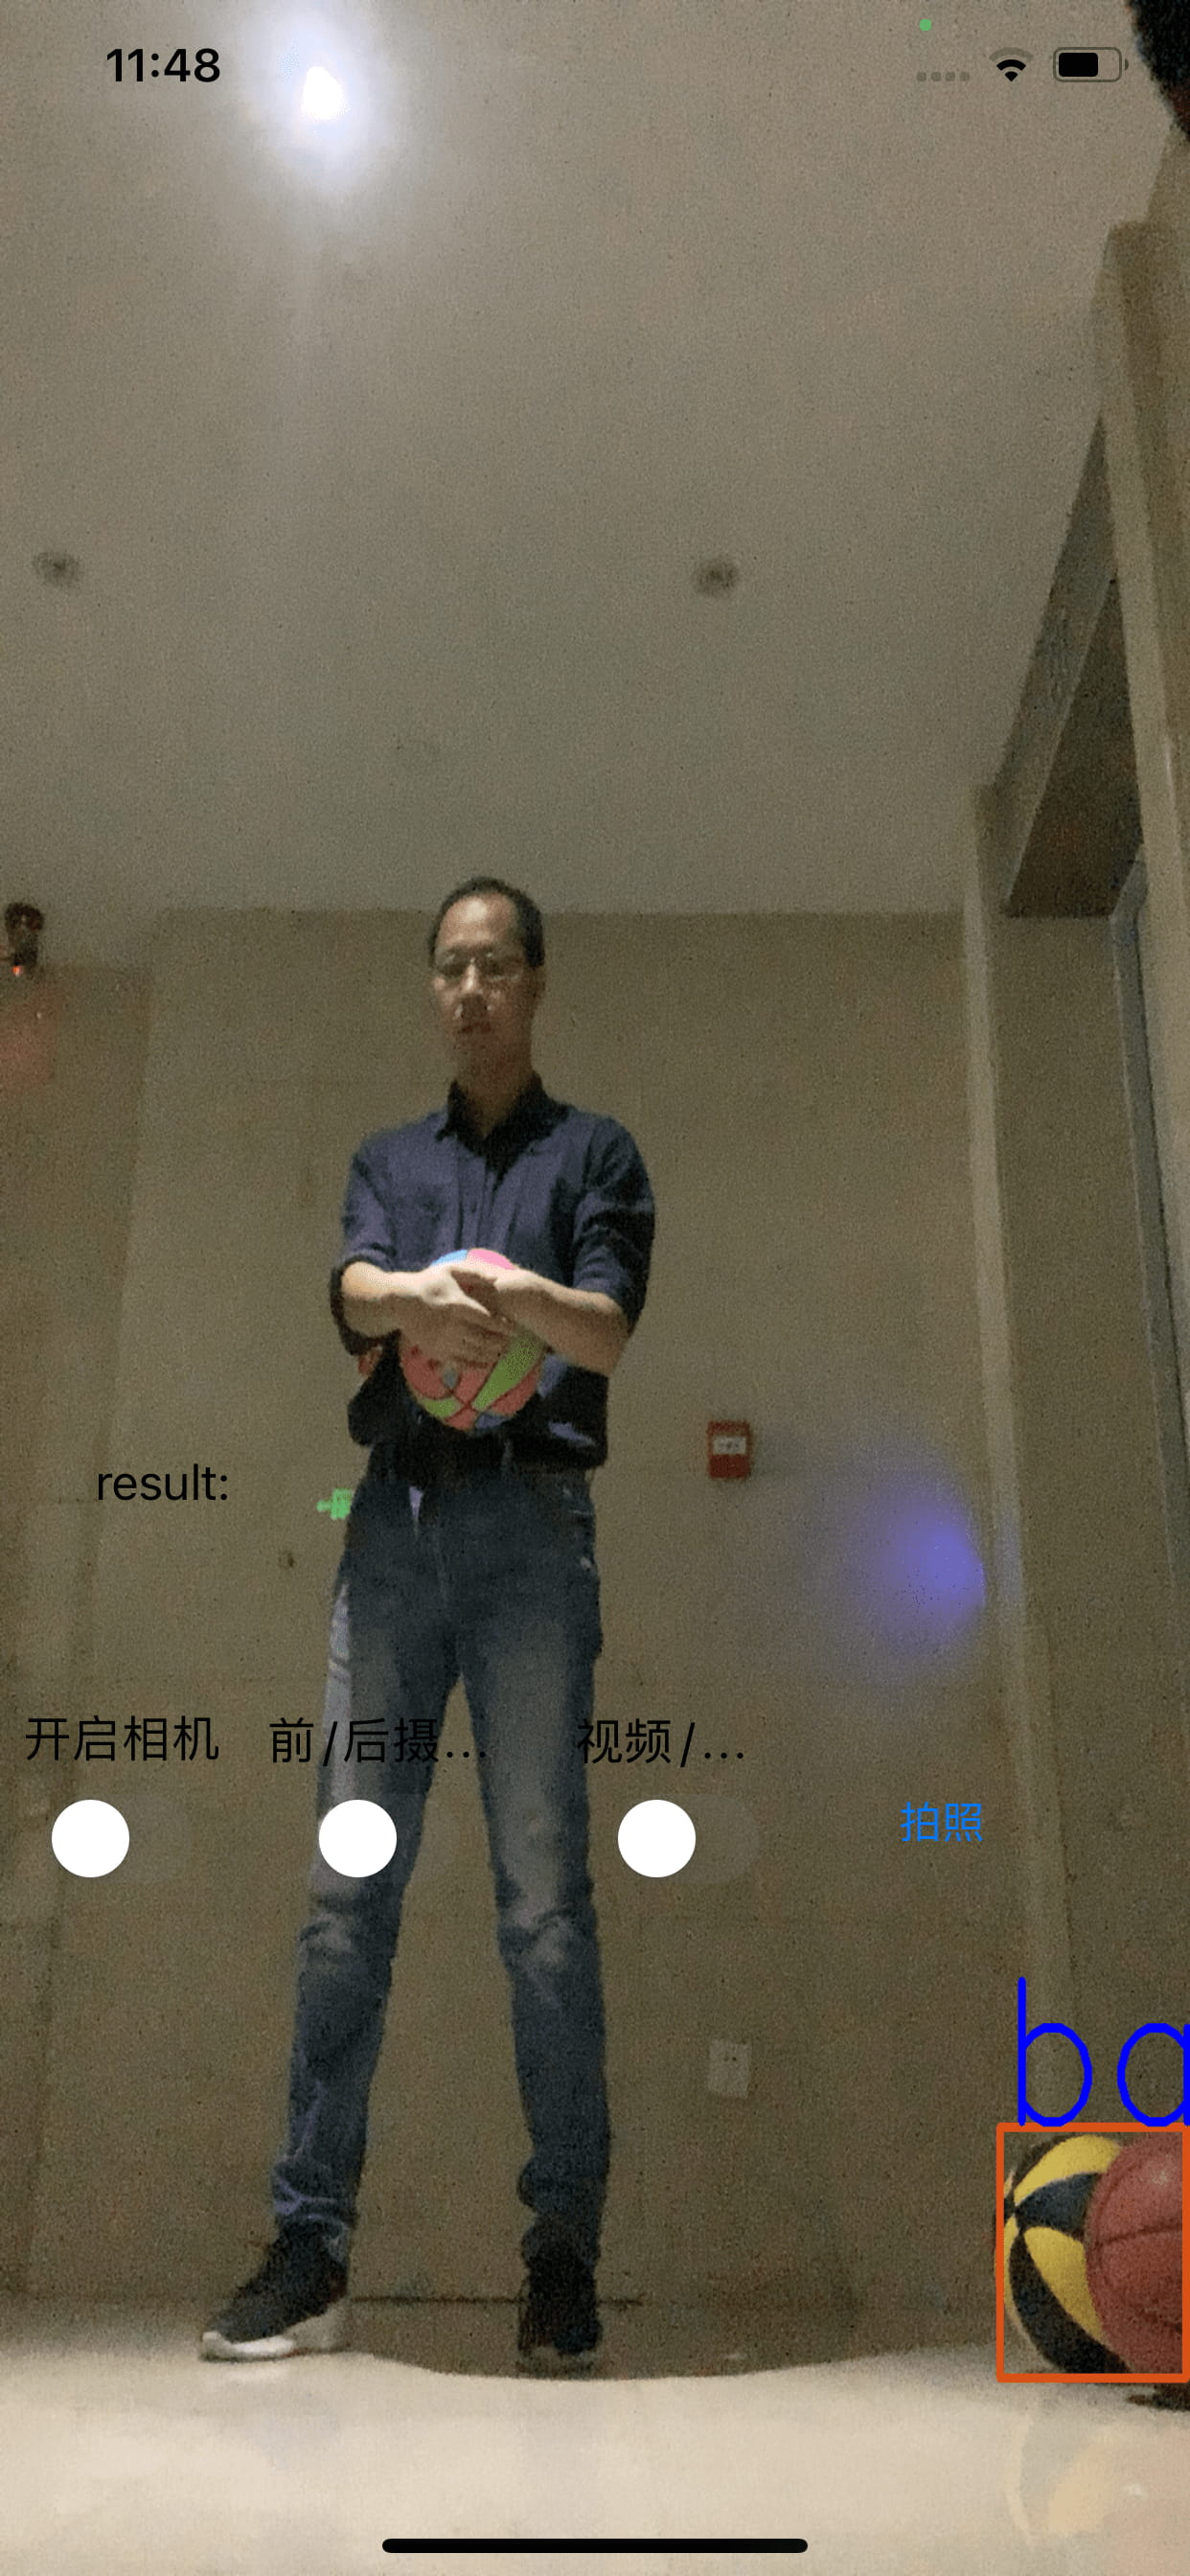ball: (394, 1240, 551, 1441), (998, 2142, 1114, 2376), (1088, 2139, 1188, 2377)
